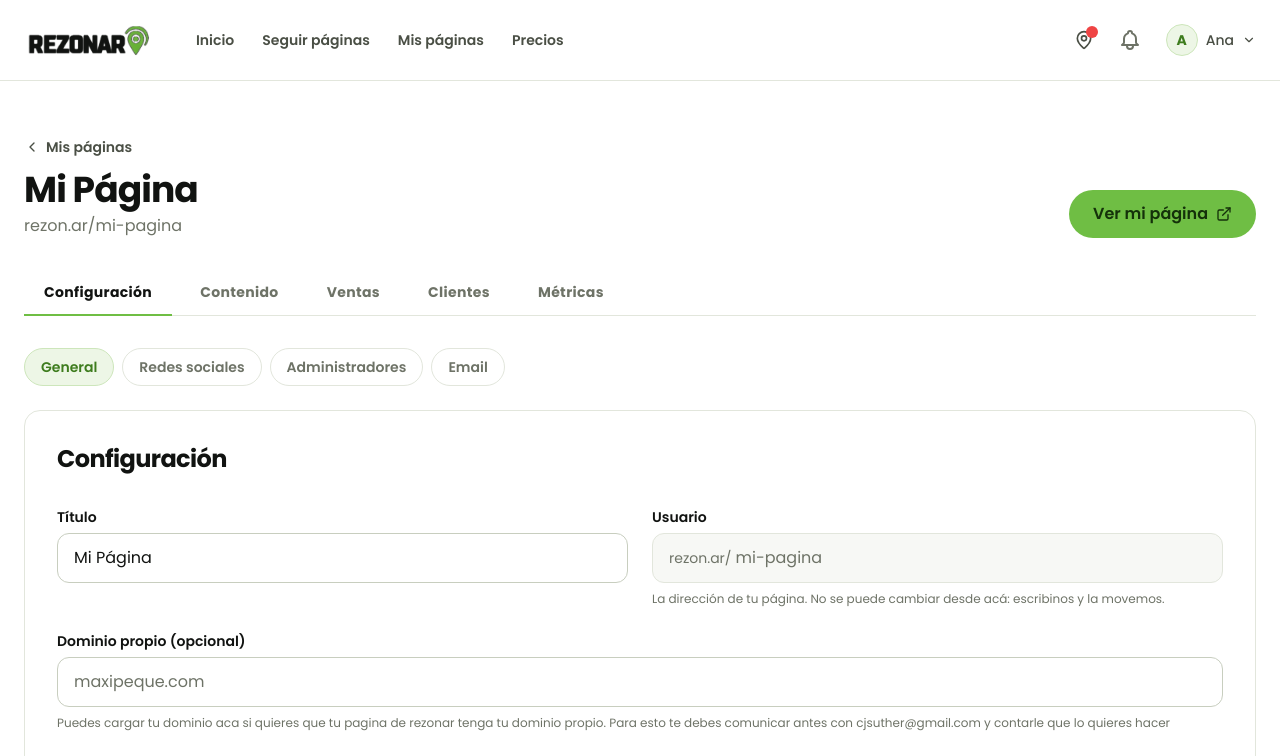
Test: PageEditor — flujos de edición › grupos › un título largo no desplaza las acciones
The image size is (1280, 756).
Expected: the heading "Mi Página" is shown, top-left (24, 170), bottom-right (198, 210)
Click the button "Contenido": (239, 293) top-left (180, 270), bottom-right (299, 316)
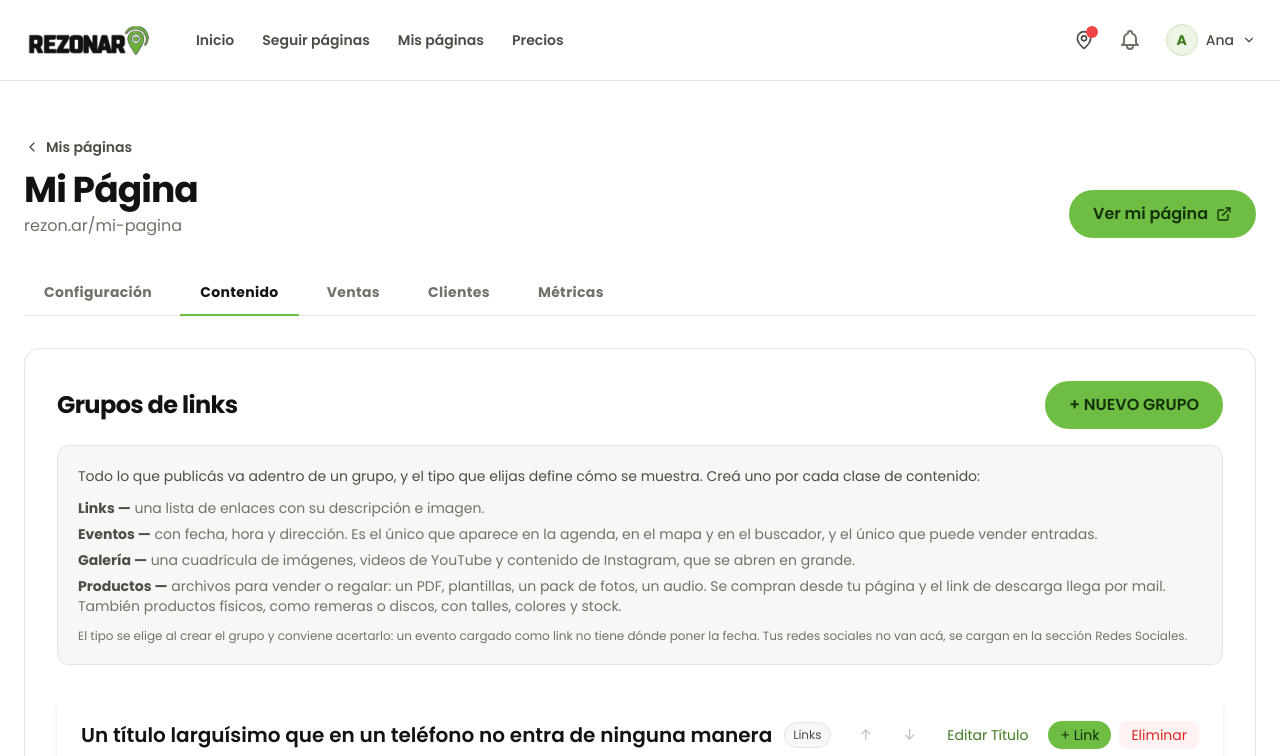
Result: the heading "Grupos de links" is shown at top-left (57, 389), bottom-right (238, 421)
Result: the button "Eliminar" is shown at top-left (1119, 721), bottom-right (1199, 749)
